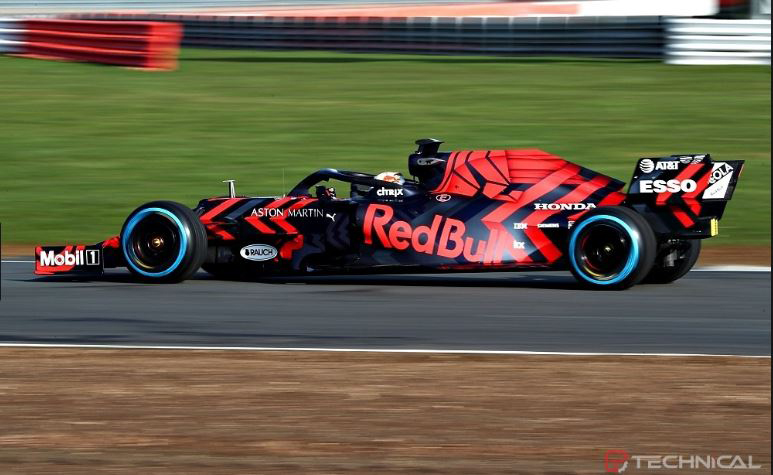F1 Car: (31, 133, 757, 293)
